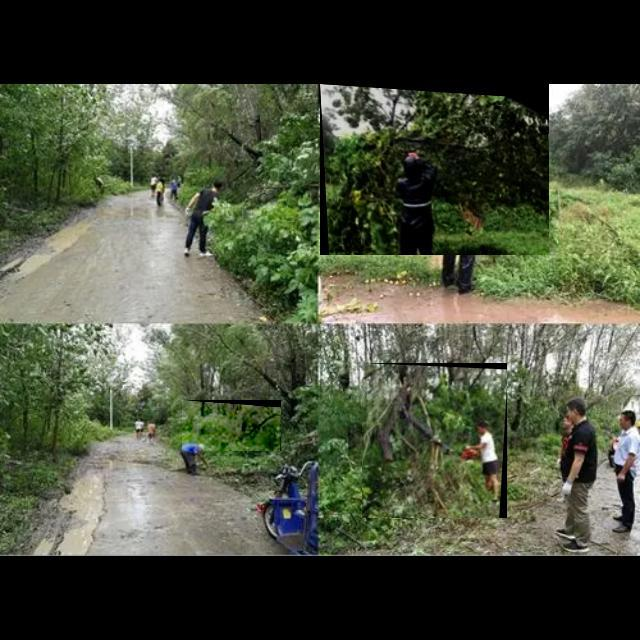fallen_tree: (320, 84, 550, 256), (362, 363, 508, 519), (182, 400, 282, 452)
